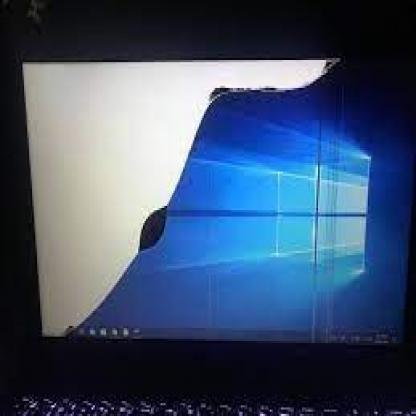crack: (20, 58, 346, 347)
spot: (130, 197, 186, 270)
